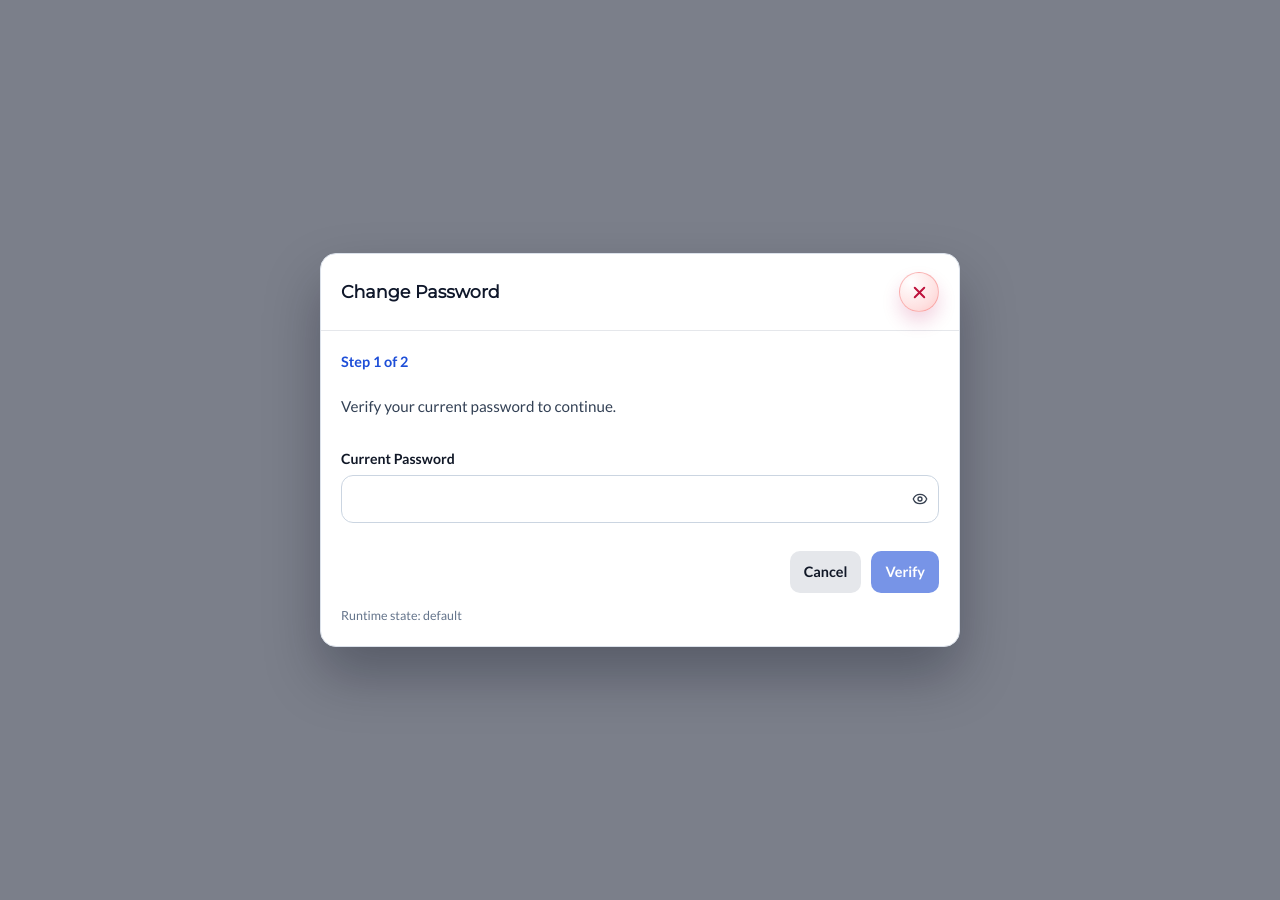
Test case: ChangePasswordModal › shows inline field error when current password is invalid
The width and height of the screenshot is (1280, 900).
Type "WrongPassword" into the password field labelled "Current Password".
click(618, 499); type("WrongPassword")  # box x1=342 y1=476 x2=894 y2=522
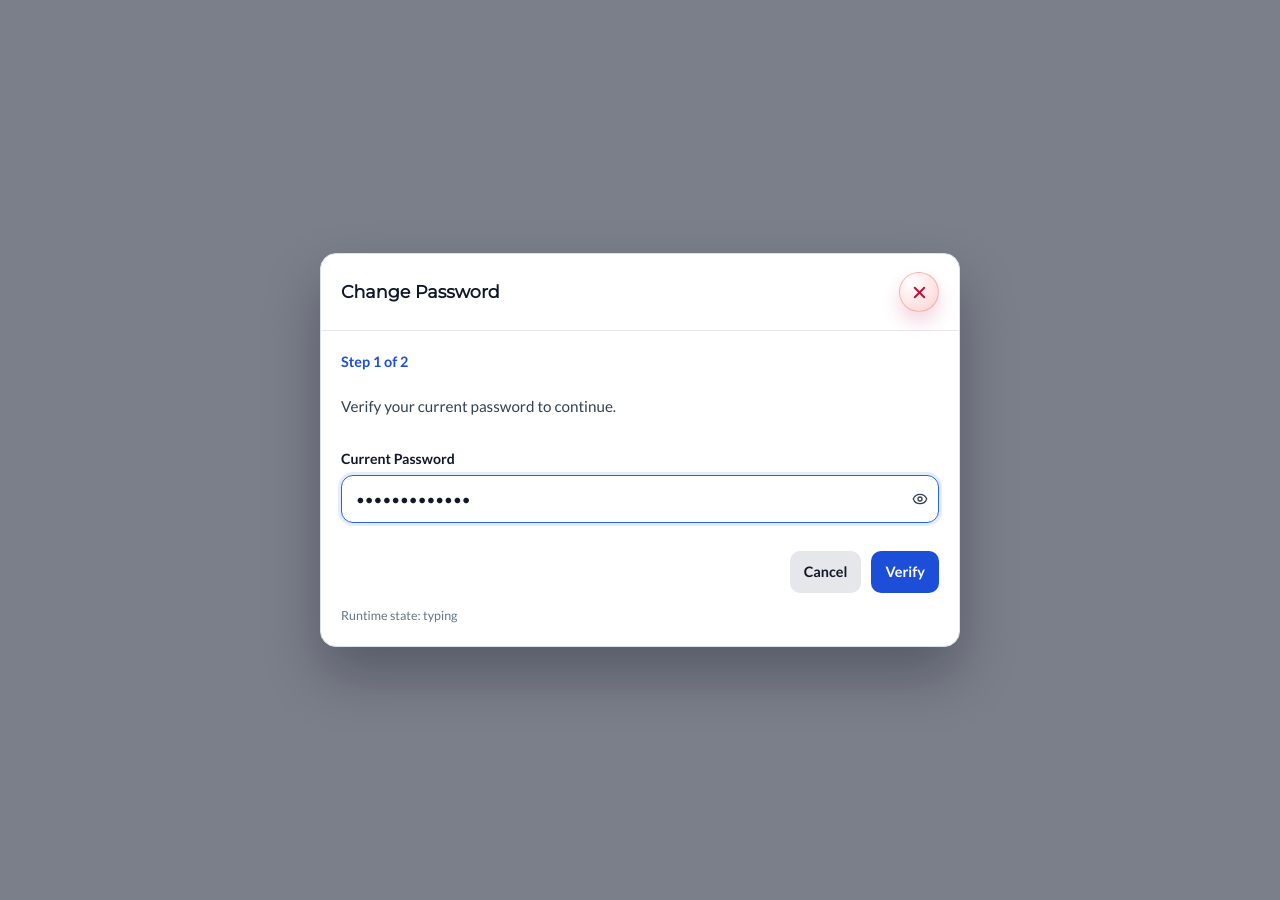
Click the button "Verify".
click(905, 572)  # box x1=872 y1=552 x2=939 y2=593
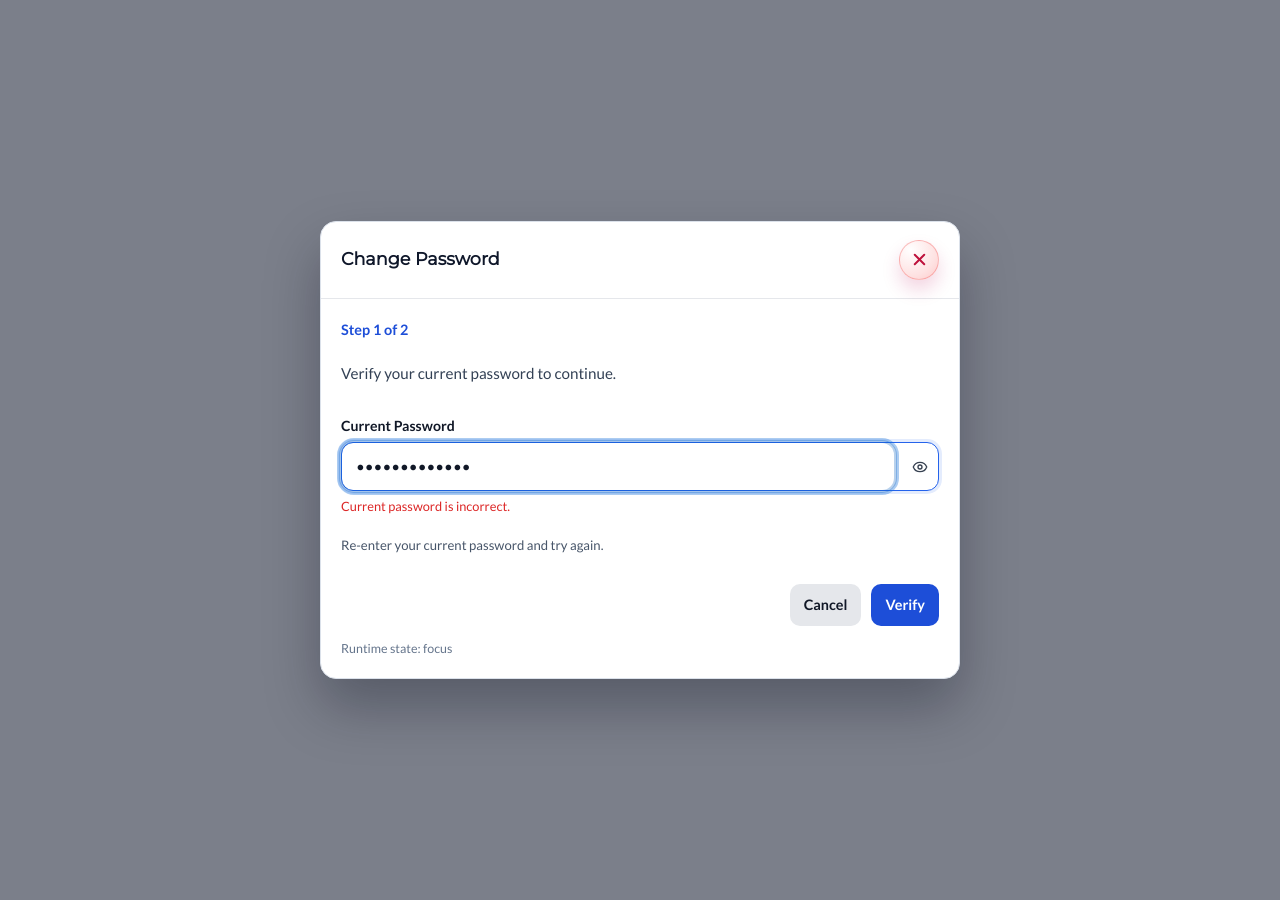
Result: the text "Current password is incorrect." is shown at x1=341 y1=498 x2=510 y2=514
Result: the text "Re-enter your current password and try again." is shown at x1=341 y1=537 x2=603 y2=553
